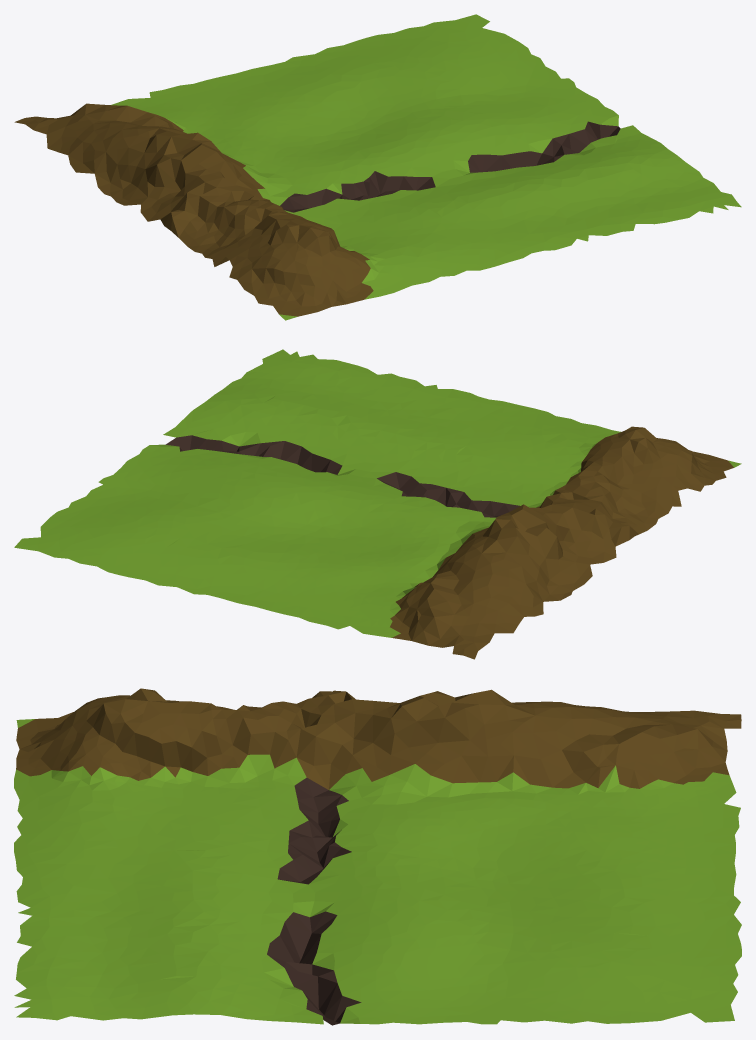
File: terrain.glb
3 renders of one model, top to bottom at view 1: azimuth 30°, elevation 25°; view 2: azimuth 150°, elevation 25°; view 3: azimuth 270°, elevation 25°, orthographic. The views are drawn at different scales.
Visible parts, largest first — view 1: Plane; view 2: Plane; view 3: Plane.
Boxes of the visible parts, left/top/right/bottom form: Plane: left=14, top=14, right=741, bottom=320; Plane: left=14, top=349, right=741, bottom=659; Plane: left=14, top=688, right=741, bottom=1025.
Size of the model in its own units: 50.19 by 7.14 by 50.
